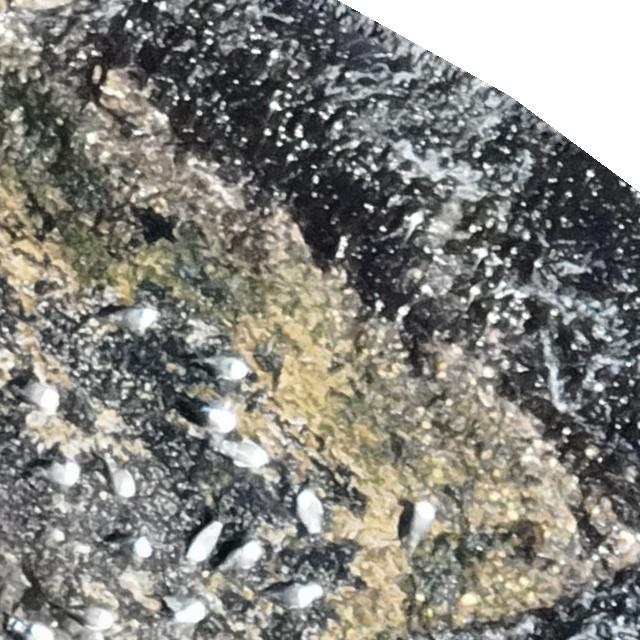umineko: (295, 488, 325, 530), (222, 540, 261, 572), (270, 586, 324, 609), (223, 442, 268, 468), (408, 502, 431, 552), (110, 306, 156, 328), (197, 405, 234, 432), (169, 600, 208, 625), (70, 606, 112, 629), (110, 536, 158, 556), (208, 355, 249, 378), (190, 522, 216, 558), (24, 383, 57, 408), (111, 462, 133, 497), (40, 463, 78, 482)
